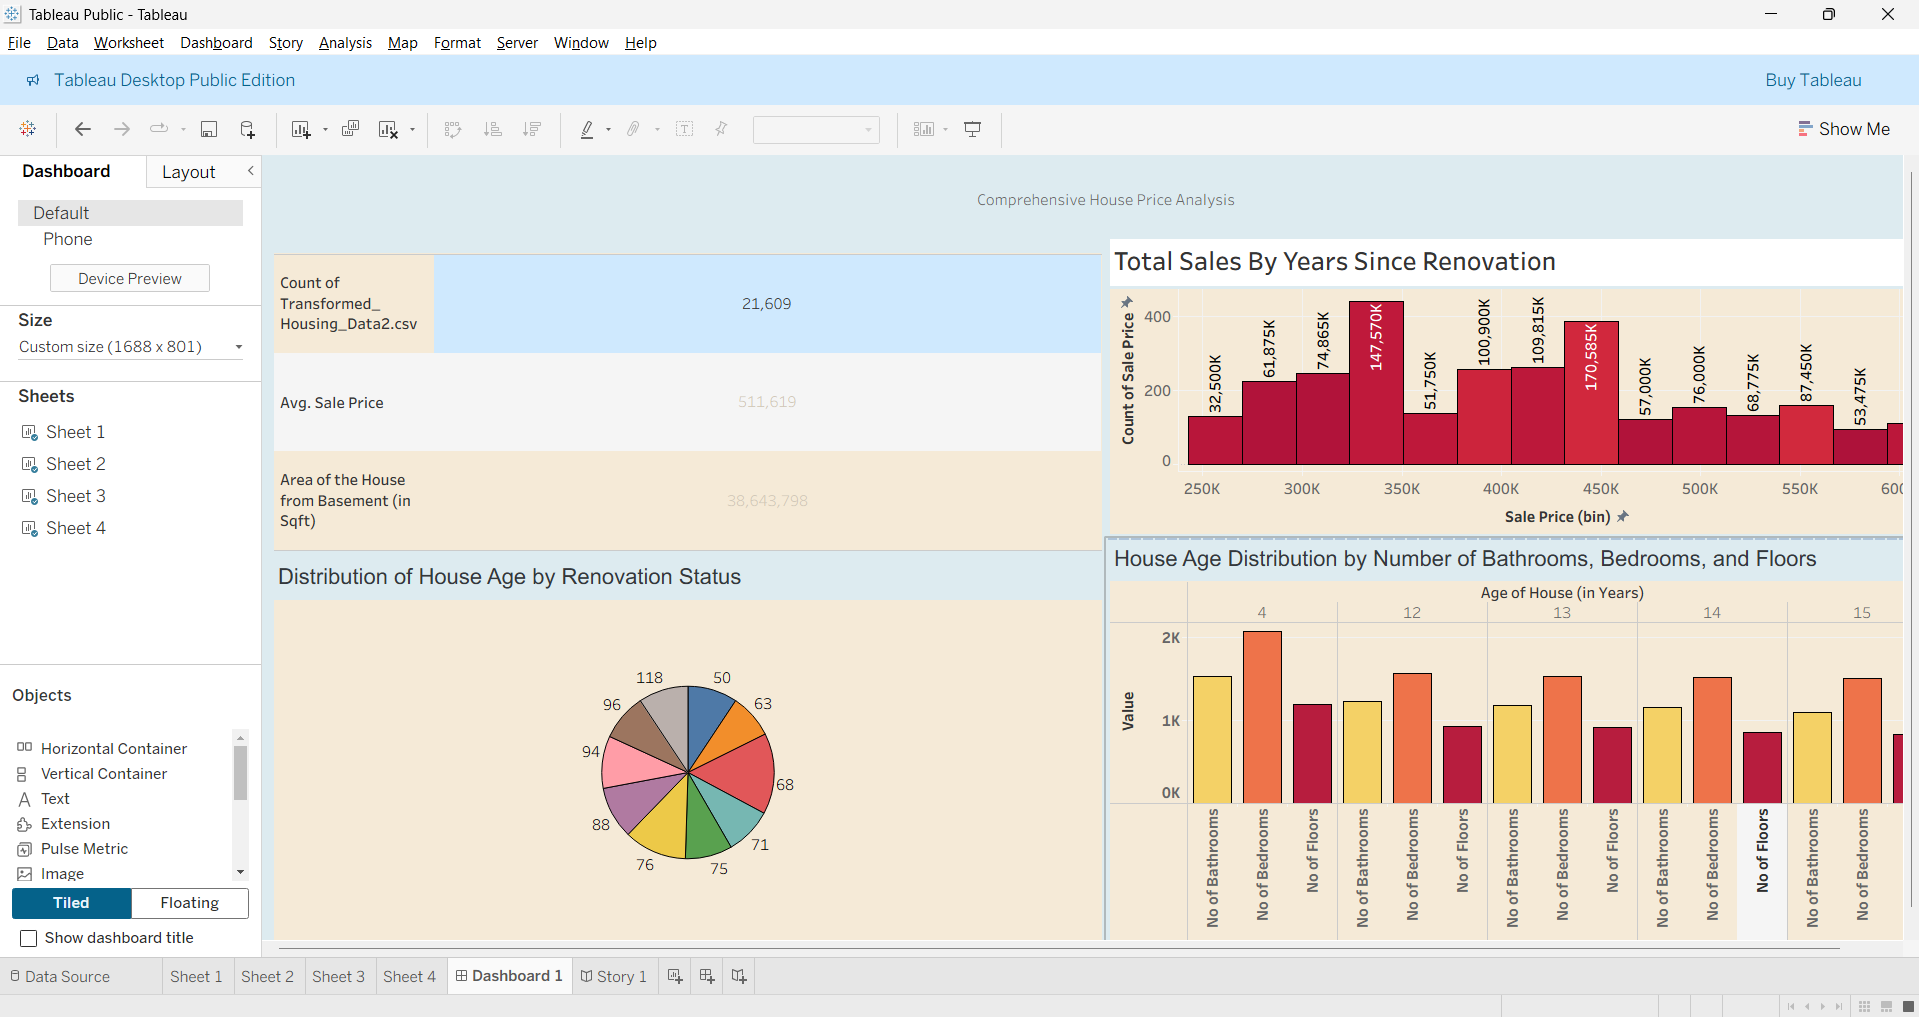

The page's visual inventory and layout, read from the dashboard file:
{"tool":"tableau","page":{"name":"Dashboard 1","canvas":[1688,801],"ordinal":0},"visuals":[{"type":"text","box":[8,8,1672,72]},{"type":"worksheet","title":"Sheet 1","mark":"Automatic","box":[8,80,835.7,320.5]},{"type":"worksheet","title":"Sheet 2","mark":"Automatic","rows":["Sale_Price"],"cols":["Sale Price (bin)"],"box":[843.7,80,836.3,302.5]},{"type":"worksheet","title":"Sheet 4","mark":"Automatic","cols":["Age of House (in Years)"],"box":[843.7,382.5,836.3,410.5]},{"type":"worksheet","title":"Sheet 3","mark":"Pie","box":[8,400.5,835.7,392.5]}]}

Visuals, with their boxes on the page's 1688x801 design canvas (x1, y1, x2, y2). These are canvas units, not pixel positions in the 1919x1017 screenshot, which may show the page scaled, cropped or inside an application window:
text: pyautogui.locateOnScreen(8, 8, 1680, 80)
"Sheet 1" worksheet: pyautogui.locateOnScreen(8, 80, 844, 400)
"Sheet 2" worksheet: pyautogui.locateOnScreen(844, 80, 1680, 382)
"Sheet 4" worksheet: pyautogui.locateOnScreen(844, 382, 1680, 793)
"Sheet 3" worksheet (Pie marks): pyautogui.locateOnScreen(8, 400, 844, 793)
